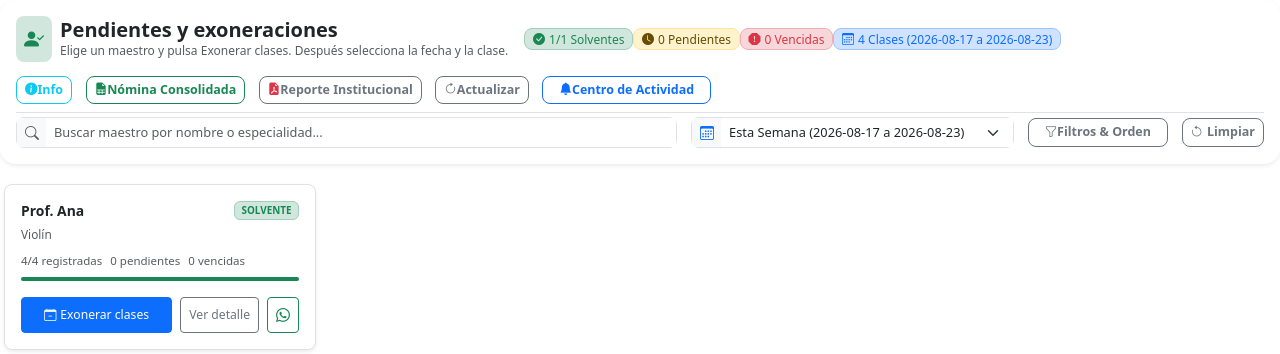
Test: CumplimientoMaestrosWidget — Reporte Institucional › el panel de rango personalizado está oculto hasta hacer click en el botón
The image size is (1280, 354).
Click the button with id "btnReporteInstitucional". click: x=340, y=90
box: [259,76,422,104]
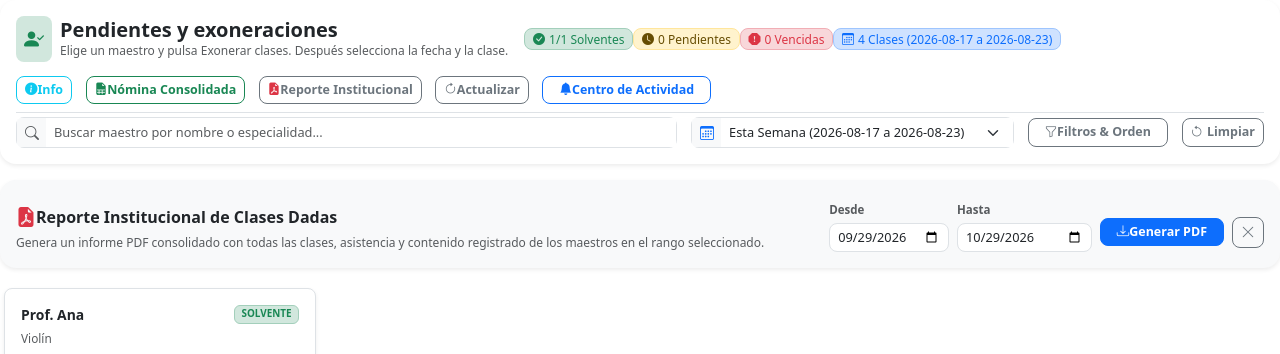
Check: the element with id "reportePanel" is shown, box [0,180,1279,268]
Check: the date field with id "reporteDesde" is shown, box [829,223,949,252]
Check: the date field with id "reporteHasta" is shown, box [957,223,1092,252]
